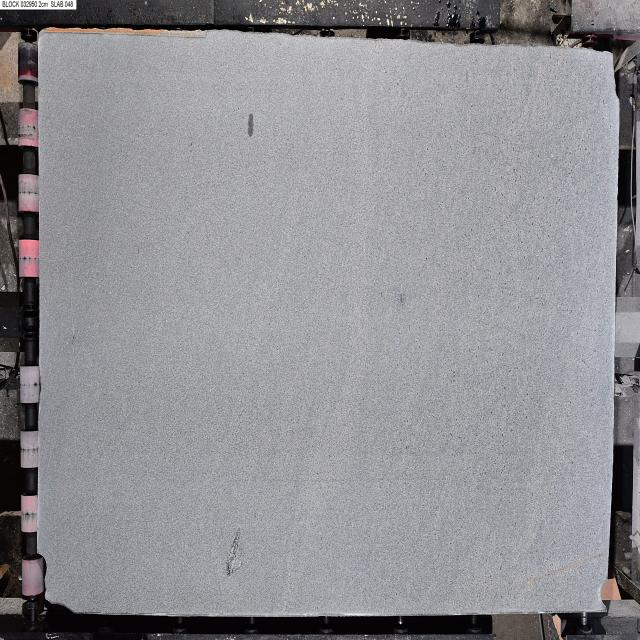chapa: (39, 30, 619, 616)
